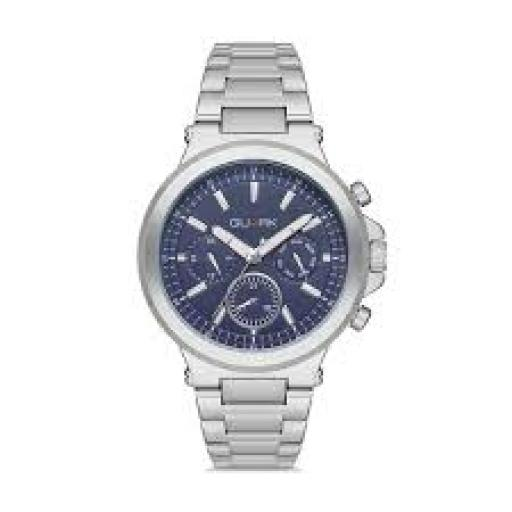KolSaati: (92, 16, 422, 504)
